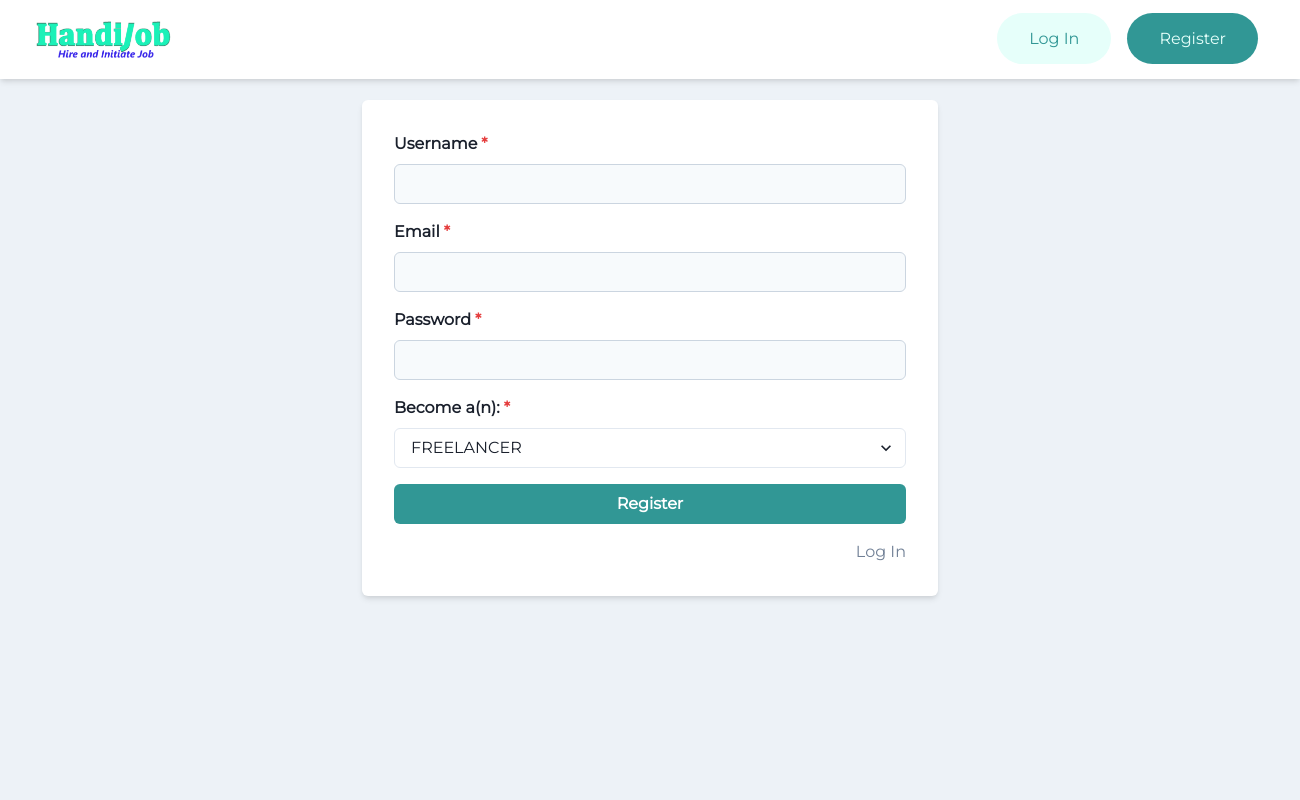
it: Register Form › should show errors when fields are empty
Click the button with test id "register-submit-btn".
click(650, 504)  # box [394,484,906,524]
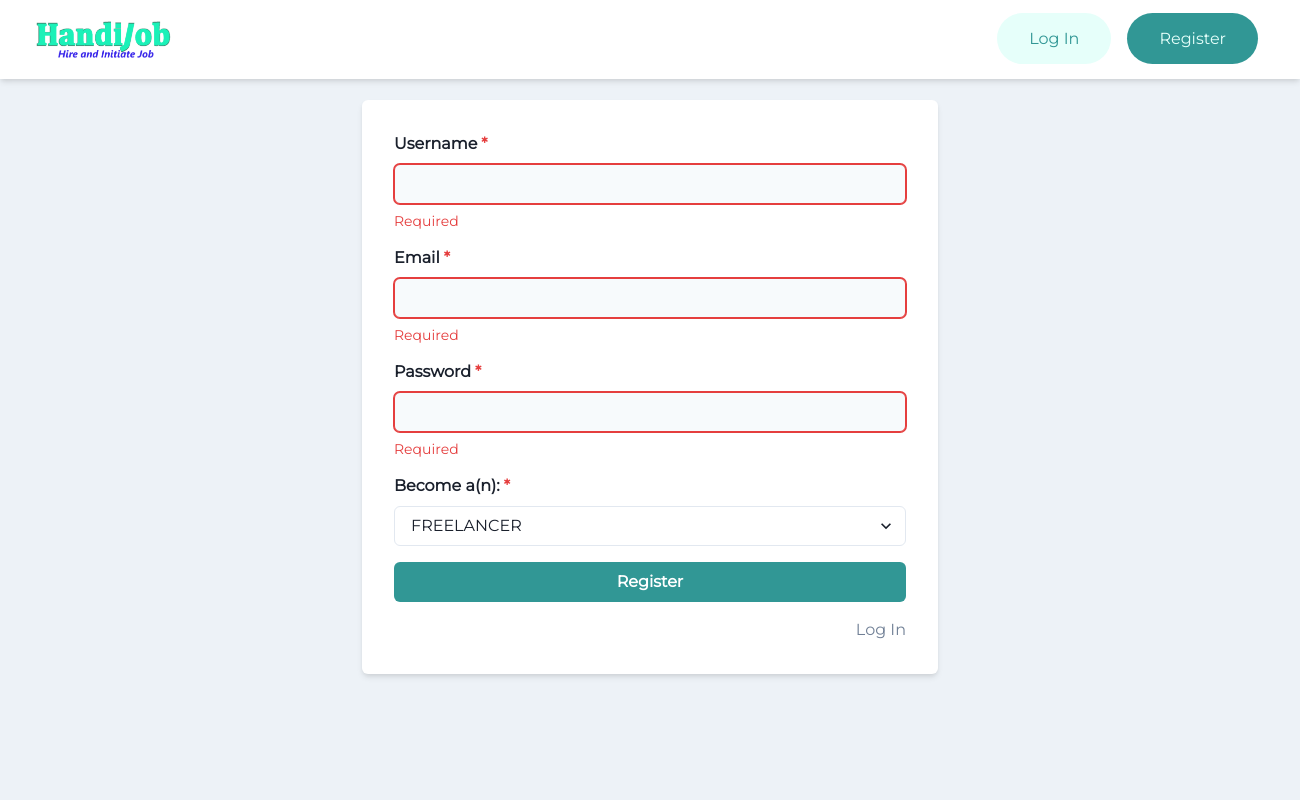
Expected: the text "Required" below "Username" is shown, [394,212,459,230]
Expected: the text "Required" below "Email" is shown, [394,326,459,344]
Expected: the text "Required" below "Password" is shown, [394,440,459,458]
